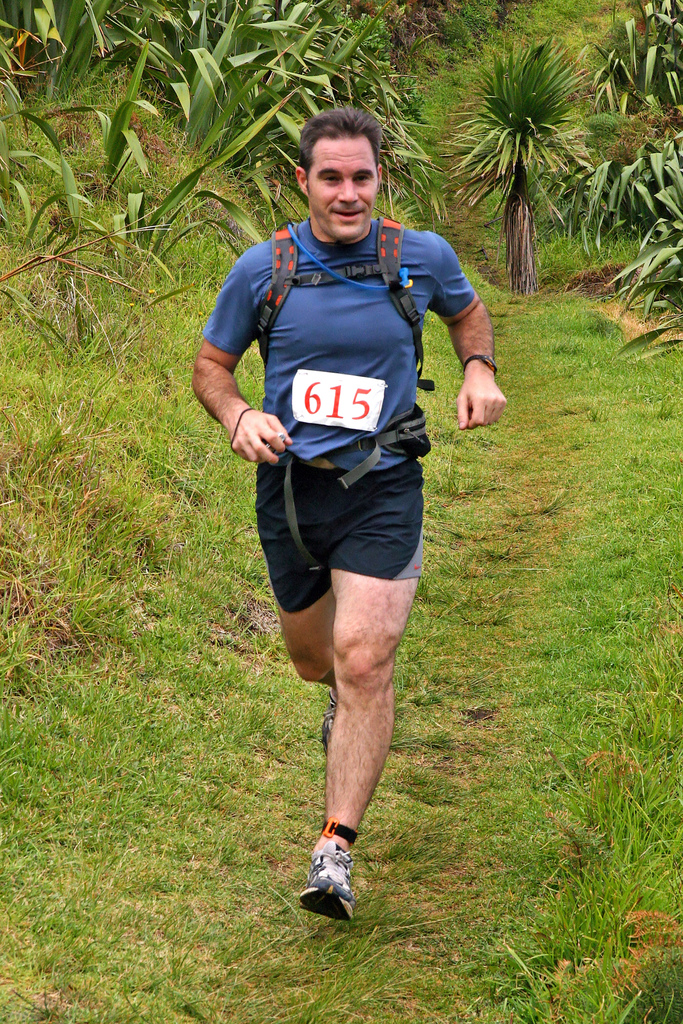Tree: (0, 0, 681, 367)
